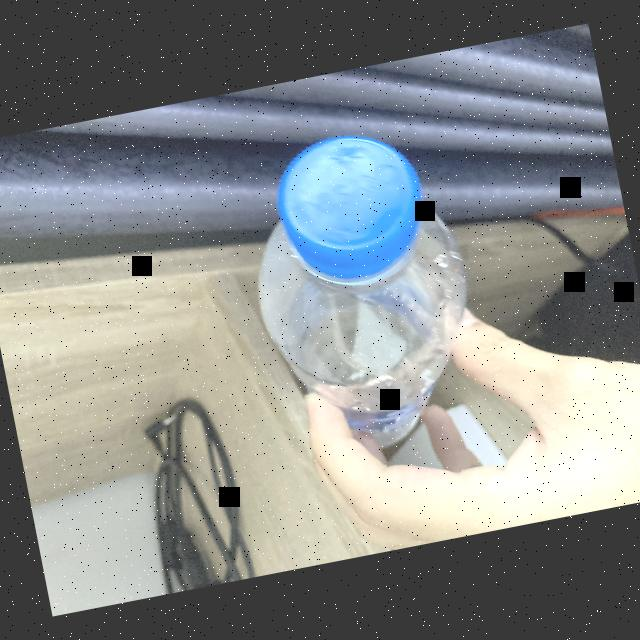plastic_bottle: (221, 111, 501, 478)
plastic_bottle_cap: (264, 120, 438, 296)
